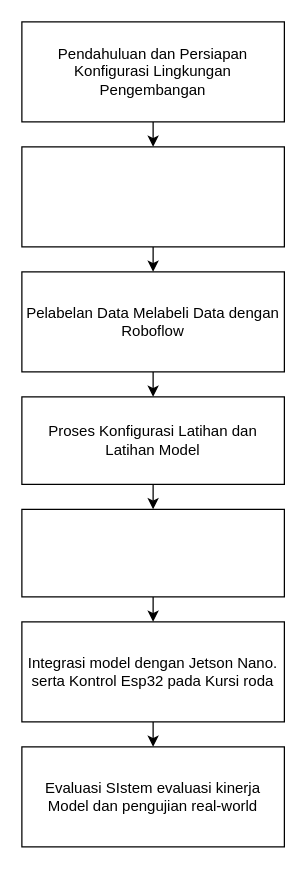
Image size: 306x869. Some labels were removed from this diagram. The shapes that lost their labels are listed below. From the top down, each one's centre as x and y in pixels, then its label:
point (152, 196): Koleksi dan Preparasi data Pengumpulan dan Augmentasi Data
point (152, 552): Konversi Model dan Perhitungan Metriks Evaluasi
